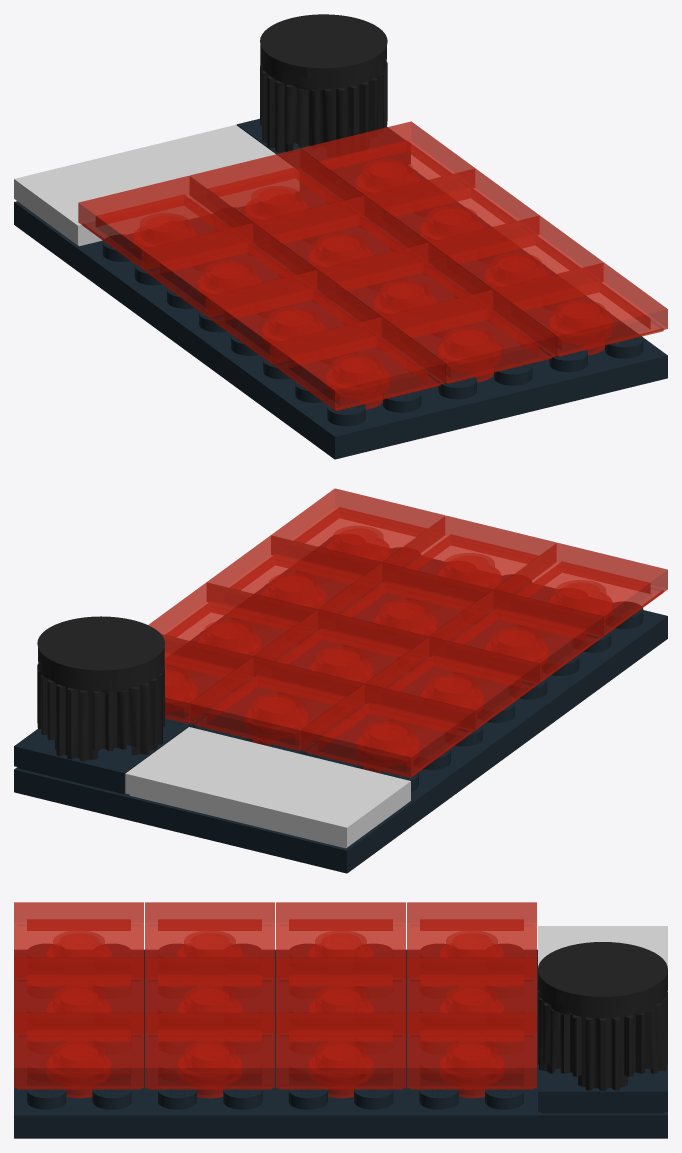
Rendered from macropad.dae.
The picture shows the model from 3 angles, top to bottom: view 1: azimuth 30°, elevation 25°; view 2: azimuth 150°, elevation 25°; view 3: azimuth 270°, elevation 25°; orthographic projection.
Visible parts, largest first — view 1: Inner-Node-macropad_dot_io-0, Inner-Node-macropad_dot_io-13, Inner-Node-macropad_dot_io-25, Inner-Node-macropad_dot_io-23, Inner-Node-macropad_dot_io-24, Inner-Node-macropad_dot_io-19, Inner-Node-macropad_dot_io-20, Inner-Node-macropad_dot_io-14, Inner-Node-macropad_dot_io-16, Inner-Node-macropad_dot_io-18, Inner-Node-macropad_dot_io-21, Inner-Node-macropad_dot_io-17 (+15 smaller); view 2: Inner-Node-macropad_dot_io-0, Inner-Node-macropad_dot_io-13, Inner-Node-macropad_dot_io-14, Inner-Node-macropad_dot_io-15, Inner-Node-macropad_dot_io-19, Inner-Node-macropad_dot_io-20, Inner-Node-macropad_dot_io-25, Inner-Node-macropad_dot_io-22, Inner-Node-macropad_dot_io-18, Inner-Node-macropad_dot_io-23, Inner-Node-macropad_dot_io-21, Inner-Node-macropad_dot_io-24 (+17 smaller); view 3: Inner-Node-macropad_dot_io-0, Inner-Node-macropad_dot_io-16, Inner-Node-macropad_dot_io-17, Inner-Node-macropad_dot_io-22, Inner-Node-macropad_dot_io-23, Inner-Node-macropad_dot_io-15, Inner-Node-macropad_dot_io-21, Inner-Node-macropad_dot_io-24, Inner-Node-macropad_dot_io-18, Inner-Node-macropad_dot_io-14, Inner-Node-macropad_dot_io-20, Inner-Node-macropad_dot_io-25 (+17 smaller).
Boxes of the visible parts, x1=… form: Inner-Node-macropad_dot_io-0: x1=14, y1=170, x2=667, y2=459; Inner-Node-macropad_dot_io-13: x1=14, y1=125, x2=299, y2=246; Inner-Node-macropad_dot_io-25: x1=271, y1=317, x2=445, y2=410; Inner-Node-macropad_dot_io-23: x1=493, y1=262, x2=667, y2=356; Inner-Node-macropad_dot_io-24: x1=382, y1=289, x2=556, y2=383; Inner-Node-macropad_dot_io-19: x1=142, y1=223, x2=316, y2=316; Inner-Node-macropad_dot_io-20: x1=206, y1=270, x2=381, y2=363; Inner-Node-macropad_dot_io-14: x1=78, y1=175, x2=252, y2=269; Inner-Node-macropad_dot_io-16: x1=300, y1=121, x2=475, y2=214; Inner-Node-macropad_dot_io-18: x1=254, y1=195, x2=427, y2=288; Inner-Node-macropad_dot_io-21: x1=318, y1=242, x2=492, y2=329; Inner-Node-macropad_dot_io-17: x1=365, y1=168, x2=539, y2=254; Inner-Node-macropad_dot_io-0: x1=14, y1=536, x2=667, y2=873; Inner-Node-macropad_dot_io-13: x1=125, y1=727, x2=410, y2=848; Inner-Node-macropad_dot_io-14: x1=300, y1=684, x2=475, y2=777; Inner-Node-macropad_dot_io-15: x1=189, y1=656, x2=363, y2=750; Inner-Node-macropad_dot_io-19: x1=365, y1=637, x2=539, y2=730; Inner-Node-macropad_dot_io-20: x1=429, y1=589, x2=603, y2=683; Inner-Node-macropad_dot_io-25: x1=493, y1=542, x2=667, y2=636; Inner-Node-macropad_dot_io-22: x1=206, y1=535, x2=381, y2=628; Inner-Node-macropad_dot_io-18: x1=254, y1=609, x2=427, y2=702; Inner-Node-macropad_dot_io-23: x1=271, y1=488, x2=445, y2=574; Inner-Node-macropad_dot_io-21: x1=318, y1=562, x2=492, y2=648; Inner-Node-macropad_dot_io-24: x1=382, y1=515, x2=556, y2=601; Inner-Node-macropad_dot_io-0: x1=14, y1=944, x2=667, y2=1138; Inner-Node-macropad_dot_io-16: x1=407, y1=1013, x2=536, y2=1089; Inner-Node-macropad_dot_io-17: x1=276, y1=1013, x2=405, y2=1089; Inner-Node-macropad_dot_io-22: x1=145, y1=1013, x2=274, y2=1089; Inner-Node-macropad_dot_io-23: x1=14, y1=1013, x2=143, y2=1089; Inner-Node-macropad_dot_io-15: x1=407, y1=957, x2=536, y2=1033; Inner-Node-macropad_dot_io-21: x1=145, y1=957, x2=274, y2=1033; Inner-Node-macropad_dot_io-24: x1=14, y1=957, x2=143, y2=1033; Inner-Node-macropad_dot_io-18: x1=276, y1=957, x2=405, y2=1033; Inner-Node-macropad_dot_io-14: x1=407, y1=902, x2=536, y2=978; Inner-Node-macropad_dot_io-20: x1=145, y1=902, x2=274, y2=978; Inner-Node-macropad_dot_io-25: x1=14, y1=902, x2=143, y2=978.
Size of the model in its own units: 120 by 47.75 by 200.
